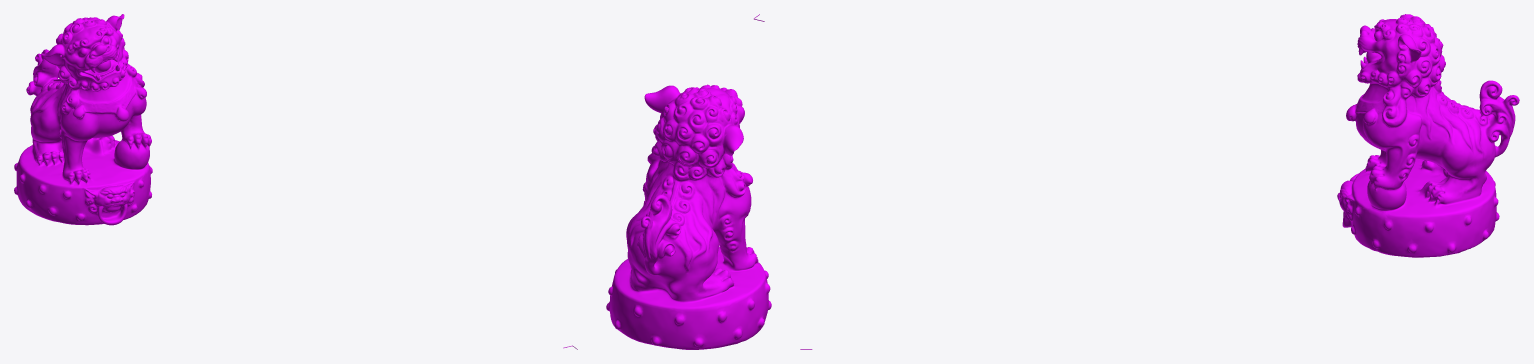
File: FiguraLeon.fbx
3 renders of one model, left to right at view 1: azimuth 30°, elevation 25°; view 2: azimuth 150°, elevation 25°; view 3: azimuth 270°, elevation 25°, orthographic. The views are drawn at different scales.
Parts seen in each view (by area): view 1: Chinese Porcelain Lion.001; view 2: Chinese Porcelain Lion.001; view 3: Chinese Porcelain Lion.001.
Part boxes in pixels (x1,y1,x2,y2): Chinese Porcelain Lion.001: (14, 14, 577, 349); Chinese Porcelain Lion.001: (606, 14, 771, 349); Chinese Porcelain Lion.001: (800, 14, 1519, 349).
Size of the model in its own units: 2542 by 1637 by 5067.
